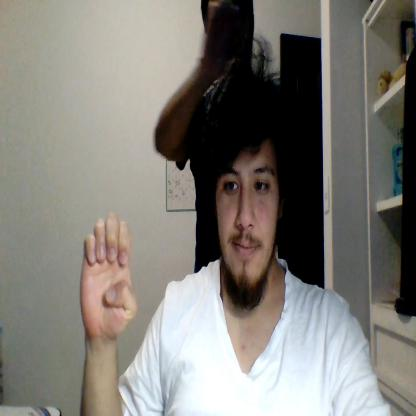E: (80, 215, 138, 338)
